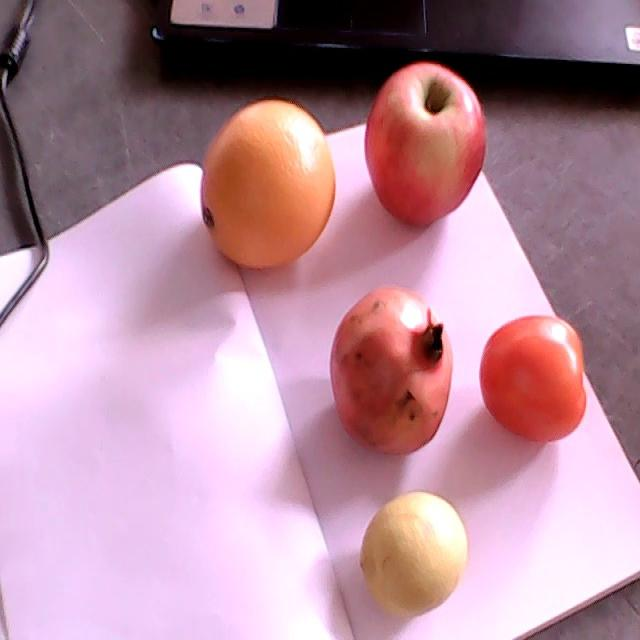apple: (365, 61, 486, 229)
lemon: (359, 490, 468, 613)
orange: (202, 100, 336, 268)
pomegranate: (331, 289, 453, 454)
tomato: (480, 315, 587, 443)
